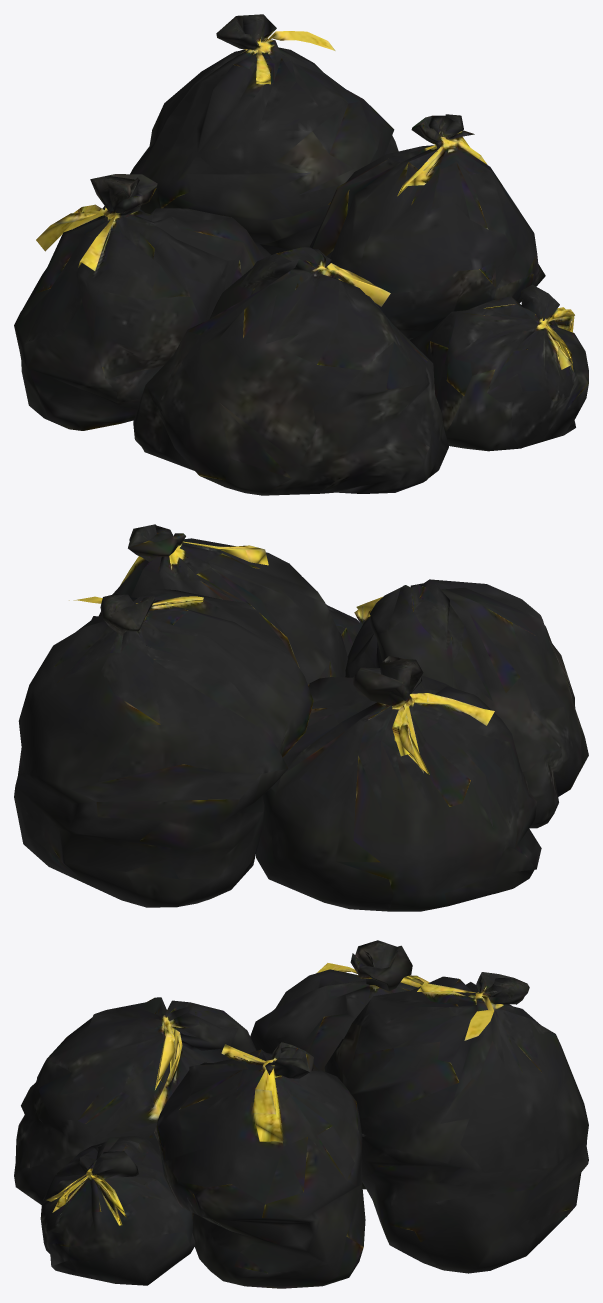
The model's file is salvage-trash_bags_pile.glb.
The picture shows the model from 3 angles, top to bottom: view 1: azimuth 30°, elevation 25°; view 2: azimuth 150°, elevation 25°; view 3: azimuth 270°, elevation 25°; orthographic projection. The views are drawn at different scales.
Parts seen in each view (by area): view 1: Meshy_AI_trash_bags_pile_3d_20261028_texture; view 2: Meshy_AI_trash_bags_pile_3d_20261028_texture; view 3: Meshy_AI_trash_bags_pile_3d_20261028_texture.
Part boxes in pixels (left/top/right/bottom): Meshy_AI_trash_bags_pile_3d_20261028_texture: left=14, top=14, right=588, bottom=495; Meshy_AI_trash_bags_pile_3d_20261028_texture: left=14, top=524, right=588, bottom=911; Meshy_AI_trash_bags_pile_3d_20261028_texture: left=14, top=940, right=588, bottom=1288.
Size of the model in its own units: 1.21 by 0.6874 by 1.4.
1 material, 1 textured.
